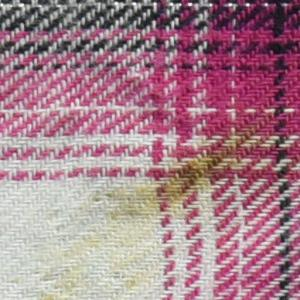Oil Stain: (34, 125, 288, 300)
